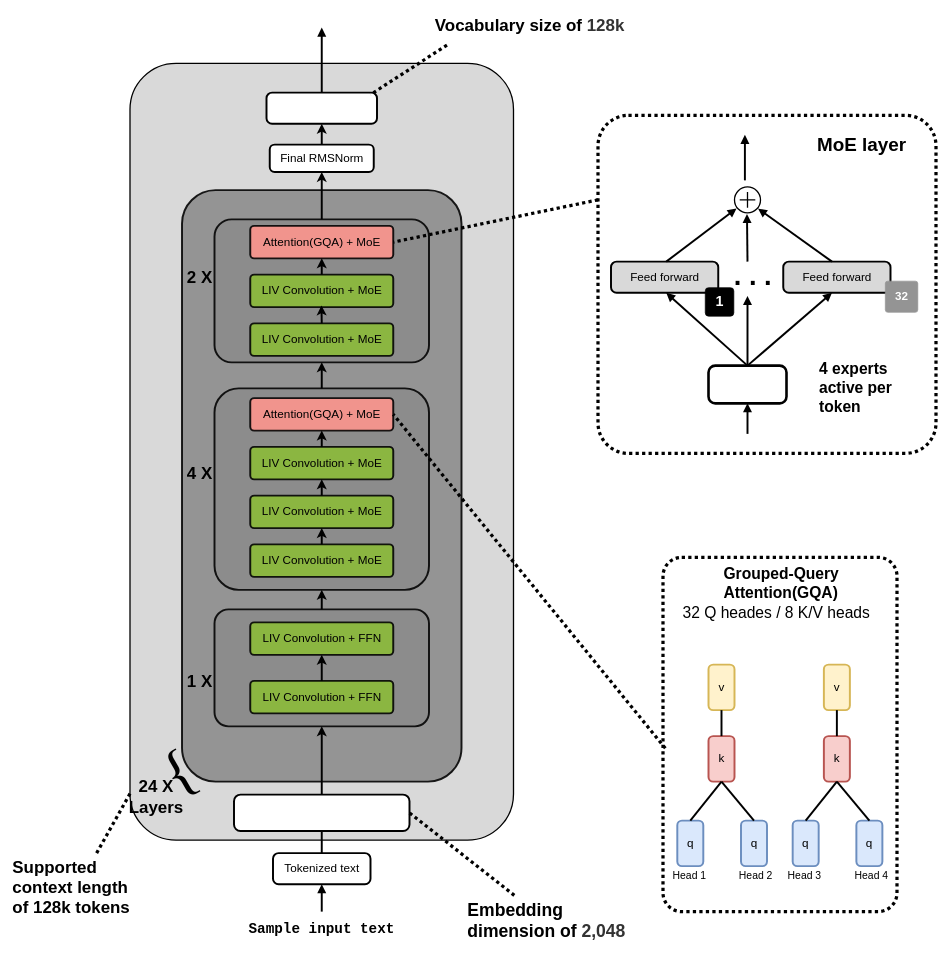
The diagram is 948 pixels wide and 974 high, and some of its shapes have lost their labels. The shapes that lost their labels are listed below. From the top down, each one's centre as x and y in pixels, then its label:
(x=321, y=107): Linear output layer
(x=747, y=384): Router
(x=321, y=812): Token embedding layer
